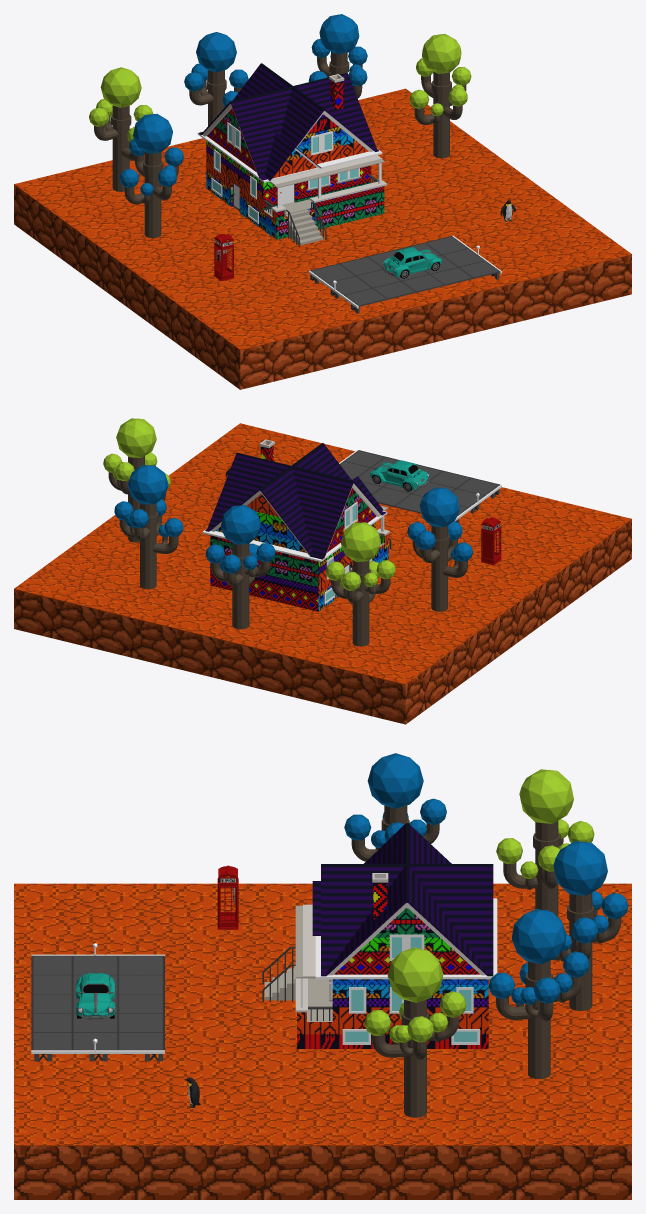
The picture shows the model from 3 angles, top to bottom: view 1: azimuth 30°, elevation 25°; view 2: azimuth 150°, elevation 25°; view 3: azimuth 270°, elevation 25°; orthographic projection. The views are drawn at different scales.
Parts seen in each view (by area): view 1: Cube.001, Cube.966, VEHICLES_VOLKSWAGEN, OBJRANDOM_PHONEBOOTH; view 2: Cube.001, Cube.966, VEHICLES_VOLKSWAGEN, OBJRANDOM_PHONEBOOTH; view 3: Cube.001, Cube.966, VEHICLES_VOLKSWAGEN, OBJRANDOM_PHONEBOOTH.
Part boxes in pixels (box(x1,y1,x2,y2)): Cube.001: box(14, 14, 631, 389); Cube.966: box(197, 63, 387, 246); VEHICLES_VOLKSWAGEN: box(382, 247, 442, 278); OBJRANDOM_PHONEBOOTH: box(213, 234, 233, 281); Cube.001: box(14, 418, 631, 724); Cube.966: box(202, 439, 391, 611); VEHICLES_VOLKSWAGEN: box(370, 460, 429, 491); OBJRANDOM_PHONEBOOTH: box(481, 517, 501, 565); Cube.001: box(14, 753, 631, 1199); Cube.966: box(262, 823, 497, 1048); VEHICLES_VOLKSWAGEN: box(76, 973, 115, 1019); OBJRANDOM_PHONEBOOTH: box(217, 865, 238, 929).
Bounding box in the file's own units: 4000 × 1667 × 4000.
43 materials, 8 textured.
